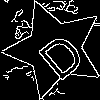D: (29, 24, 88, 83)
